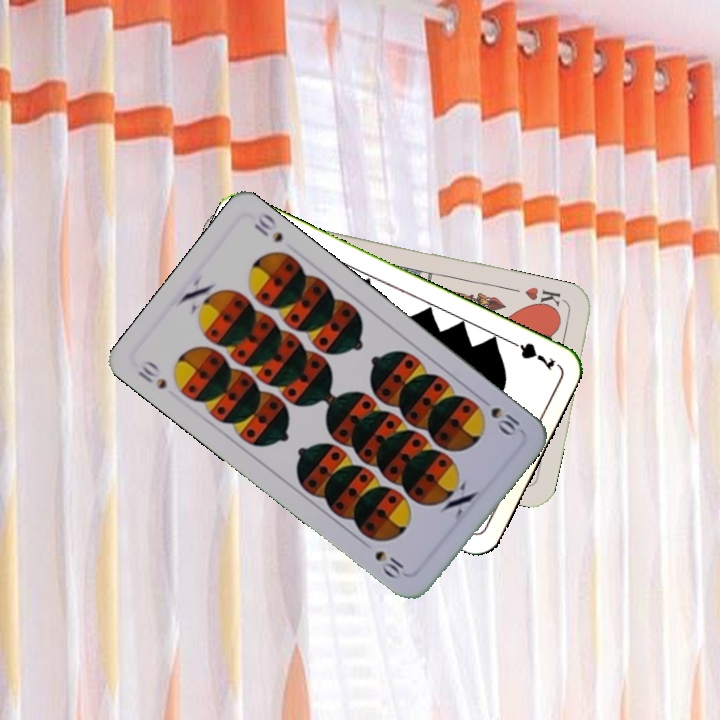G7: (503, 335, 558, 373)
HK: (521, 282, 570, 314)
S10: (475, 392, 524, 439), (133, 356, 170, 392)
